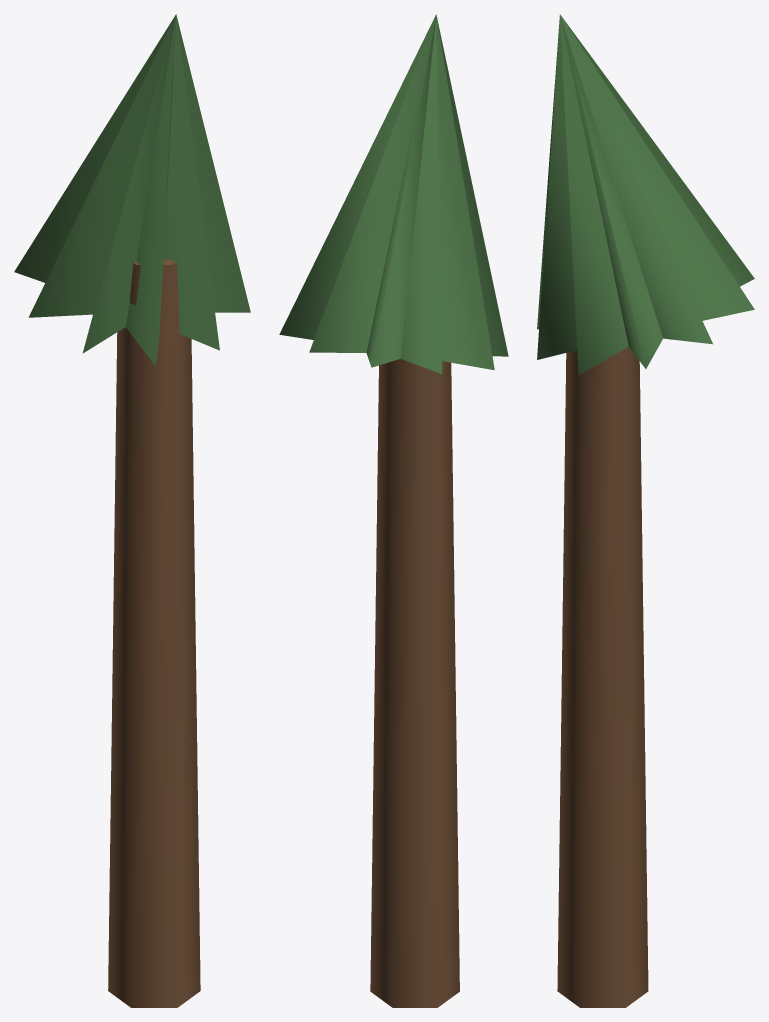
File: crop-palm-tree-stage-2-juvenile.glb
The picture shows the model from 3 angles, left to right: view 1: azimuth 30°, elevation 25°; view 2: azimuth 150°, elevation 25°; view 3: azimuth 270°, elevation 25°; orthographic projection. The views are drawn at different scales.
Parts seen in each view (by area): view 1: crop-palm-tree-stage-2-juvenile-beach-trunk, crop-palm-tree-stage-2-juvenile-beach-foliage; view 2: crop-palm-tree-stage-2-juvenile-beach-trunk, crop-palm-tree-stage-2-juvenile-beach-foliage; view 3: crop-palm-tree-stage-2-juvenile-beach-trunk, crop-palm-tree-stage-2-juvenile-beach-foliage.
Boxes of the visible parts, bbox=[...] form: crop-palm-tree-stage-2-juvenile-beach-trunk: bbox=[108, 259, 200, 1007]; crop-palm-tree-stage-2-juvenile-beach-foliage: bbox=[14, 14, 250, 365]; crop-palm-tree-stage-2-juvenile-beach-trunk: bbox=[370, 358, 459, 1007]; crop-palm-tree-stage-2-juvenile-beach-foliage: bbox=[279, 14, 508, 374]; crop-palm-tree-stage-2-juvenile-beach-trunk: bbox=[557, 346, 648, 1007]; crop-palm-tree-stage-2-juvenile-beach-foliage: bbox=[537, 14, 754, 374].
Bounding box in the file's own units: 0.442 × 2.01 × 0.4073.
